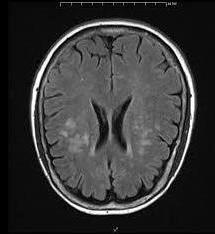Normal_Brain: (13, 7, 215, 234)
